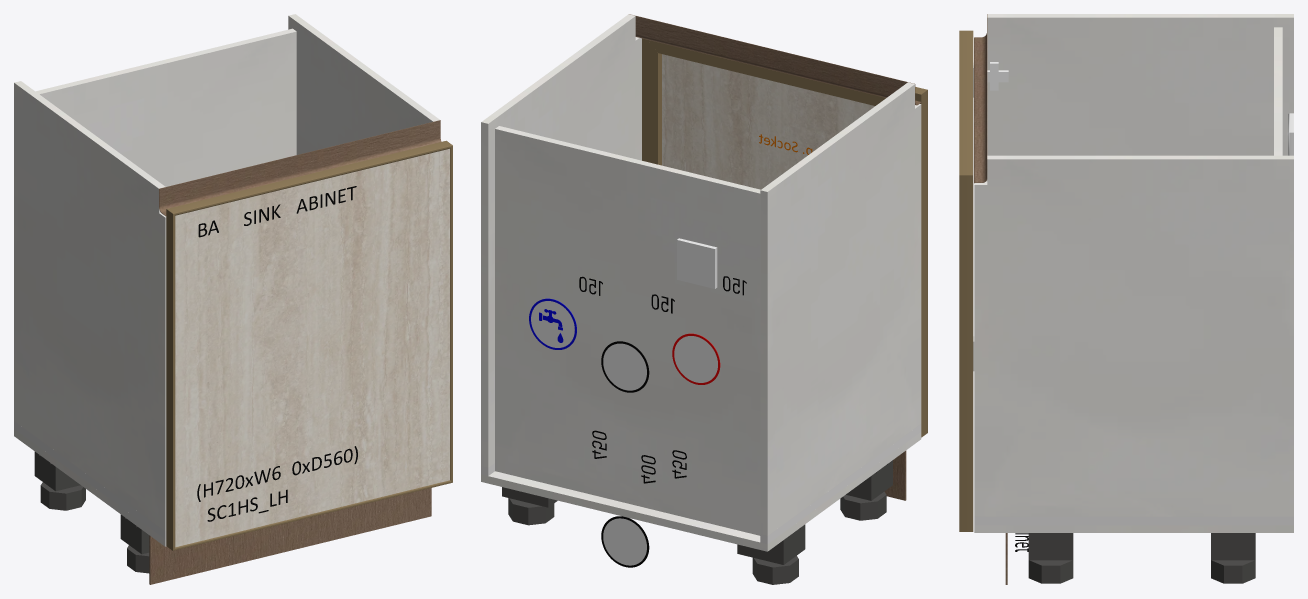
File: BC-SK-CJ-ST-XXX-LHS-XXX-600-720-560-15.glb
3 views of the same model, side by side, from view 1: azimuth 30°, elevation 25°; view 2: azimuth 150°, elevation 25°; view 3: azimuth 270°, elevation 25° (orthographic). The views are drawn at different scales.
Visible parts, largest first — view 1: Object_node, TP_node_0, TP, TP_node_1, Object_node_67, ExtrSplGeo, Extrusion_node_1, Extrusion, 2D text_node, Object_node_17, TP_node, Extrusion_node_0 (+5 smaller); view 2: TP, TP_node_0, Object_node, TP_node_1, ExtrSplGeo, TP_node, Extrusion, Extrusion_node_1, Extrusion_node, casing, Object_node_47, Object_node_63 (+9 smaller); view 3: TP_node_1, TP_node_0, Extrusion_node, Object_node_19, TP_node, ExtrSplGeo, Extrusion, Plate_node_1, Plate_node, TP, Foot_node_1, Foot_node.
Part boxes in pixels (x1,y1,x2,y2): Object_node: [175, 148, 449, 547]; TP_node_0: [14, 81, 166, 531]; TP: [35, 28, 296, 186]; TP_node_1: [288, 14, 439, 154]; Object_node_67: [149, 488, 431, 584]; ExtrSplGeo: [159, 120, 441, 216]; Extrusion_node_1: [166, 209, 175, 550]; Extrusion: [167, 140, 452, 215]; 2D text_node: [197, 446, 357, 521]; Object_node_17: [14, 421, 166, 539]; TP_node: [14, 429, 166, 546]; Extrusion_node_0: [173, 480, 452, 550]; TP: [495, 126, 760, 535]; TP_node_0: [760, 82, 921, 536]; Object_node: [662, 54, 874, 189]; TP_node_1: [481, 14, 641, 467]; ExtrSplGeo: [629, 14, 921, 105]; TP_node: [481, 432, 921, 551]; Extrusion: [648, 40, 927, 105]; Extrusion_node_1: [915, 90, 927, 437]; Extrusion_node: [642, 38, 661, 165]; casing: [677, 238, 717, 288]; Object_node_47: [603, 518, 646, 565]; Object_node_63: [603, 343, 646, 390]; TP_node_1: [974, 155, 1293, 516]; TP_node_0: [986, 14, 1293, 181]; Extrusion_node: [959, 175, 973, 531]; Object_node_19: [974, 517, 1293, 525]; TP_node: [974, 525, 1293, 532]; ExtrSplGeo: [974, 14, 987, 183]; Extrusion: [959, 30, 972, 175]; Plate_node_1: [1028, 533, 1073, 560]; Plate_node: [1211, 533, 1255, 560]; TP: [1274, 27, 1282, 155]; Foot_node_1: [1028, 560, 1073, 583]; Foot_node: [1211, 560, 1255, 583].
Size of what is drawn, in the model's own units: 0.6 by 0.82 by 0.5899.
Materials: 14 (3 with a texture image).
